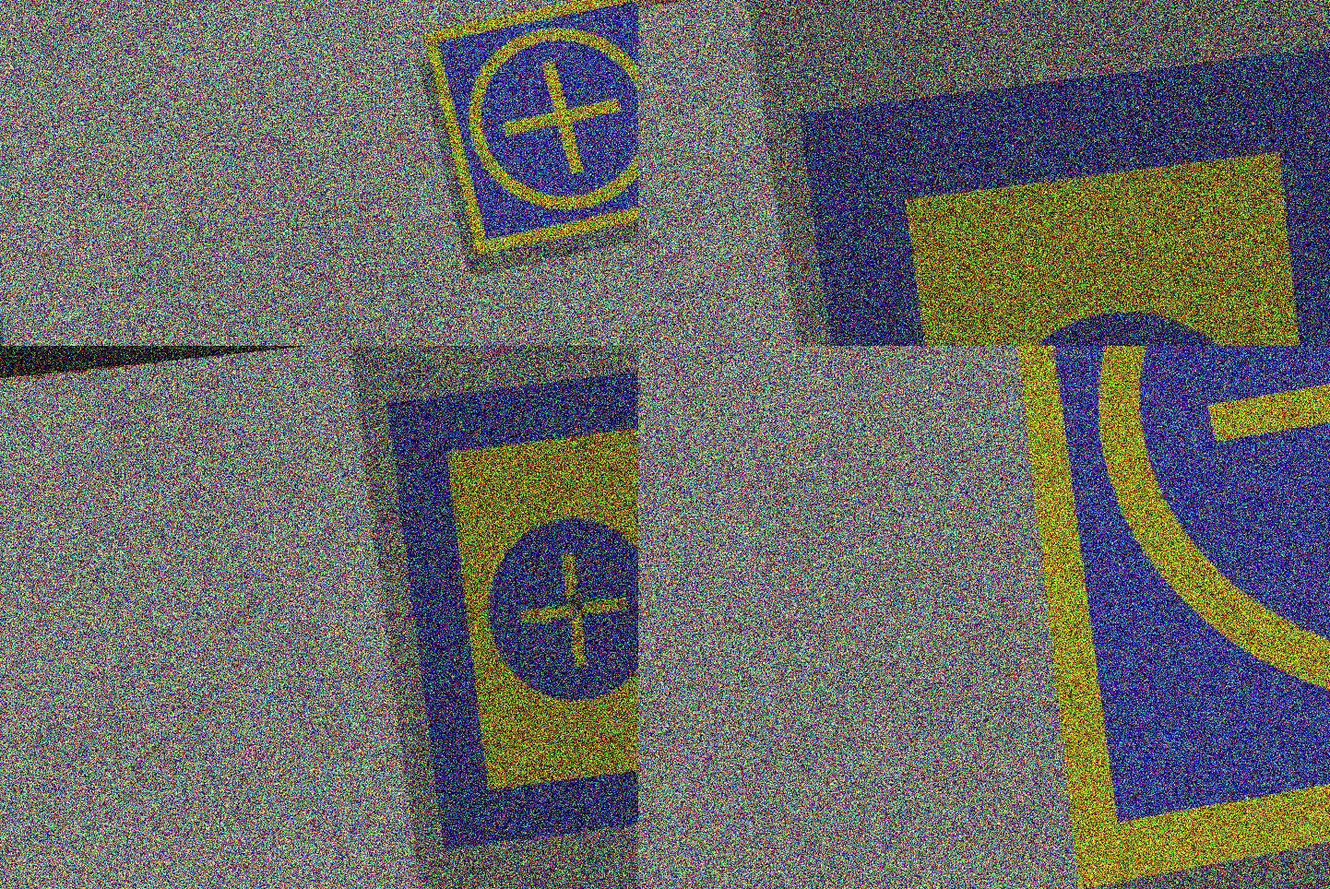large_base: (798, 45, 1330, 347), (386, 362, 639, 849)
small_base: (993, 347, 1330, 889), (422, 1, 639, 262)
